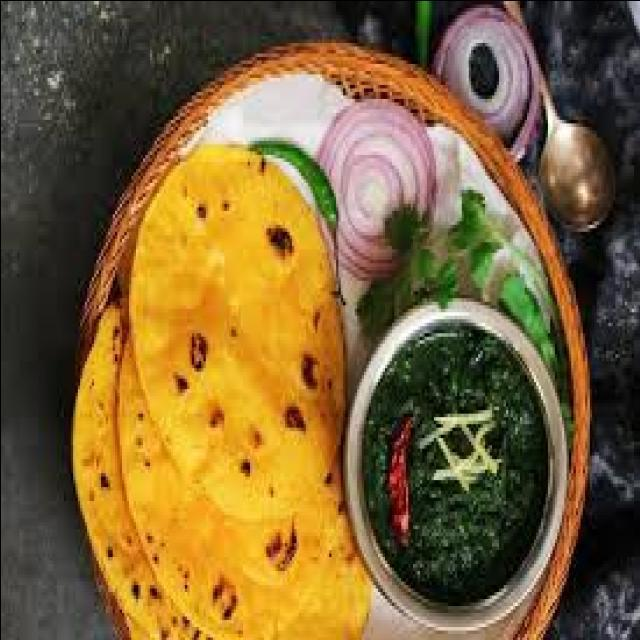roti: (118, 162, 340, 600)
